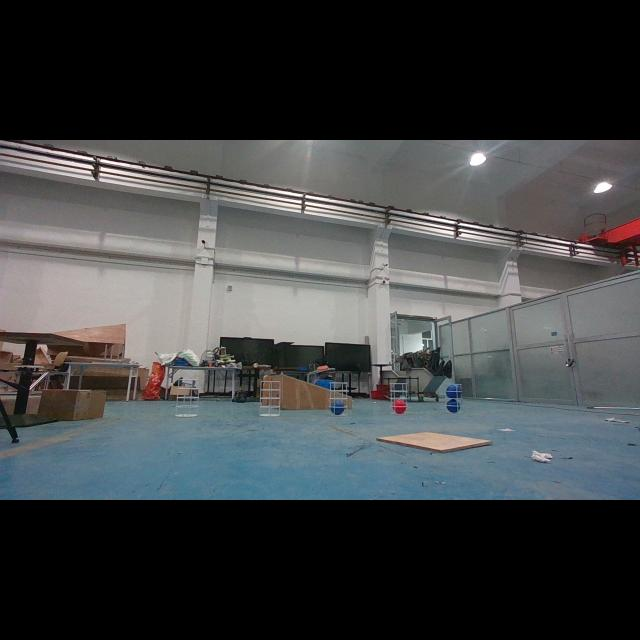B: (446, 384, 464, 400), (328, 401, 346, 414), (446, 400, 462, 412)
R: (392, 400, 406, 412)
S: (173, 378, 203, 420), (256, 378, 286, 419), (328, 379, 350, 418), (443, 380, 465, 416), (388, 382, 410, 416)
